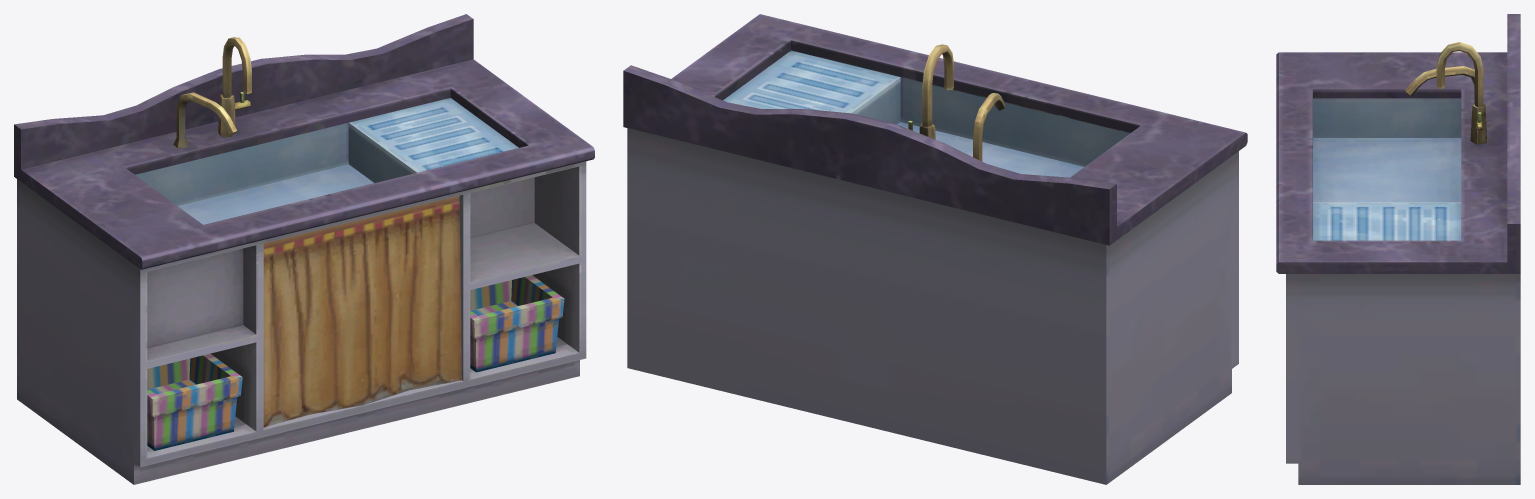
File: furni_0200618_01.FBX
The picture shows the model from 3 angles, left to right: view 1: azimuth 30°, elevation 25°; view 2: azimuth 150°, elevation 25°; view 3: azimuth 270°, elevation 25°; orthographic projection. The views are drawn at different scales.
Visible parts, largest first — view 1: furni_0200618_01; view 2: furni_0200618_01; view 3: furni_0200618_01.
Boxes of the visible parts, <box> form: furni_0200618_01: <box>14,14,594,484</box>; furni_0200618_01: <box>623,14,1247,484</box>; furni_0200618_01: <box>1276,14,1520,484</box>.
Size of the model in its own units: 163 by 116 by 79.84.
Materials: 1 (1 with a texture image).
